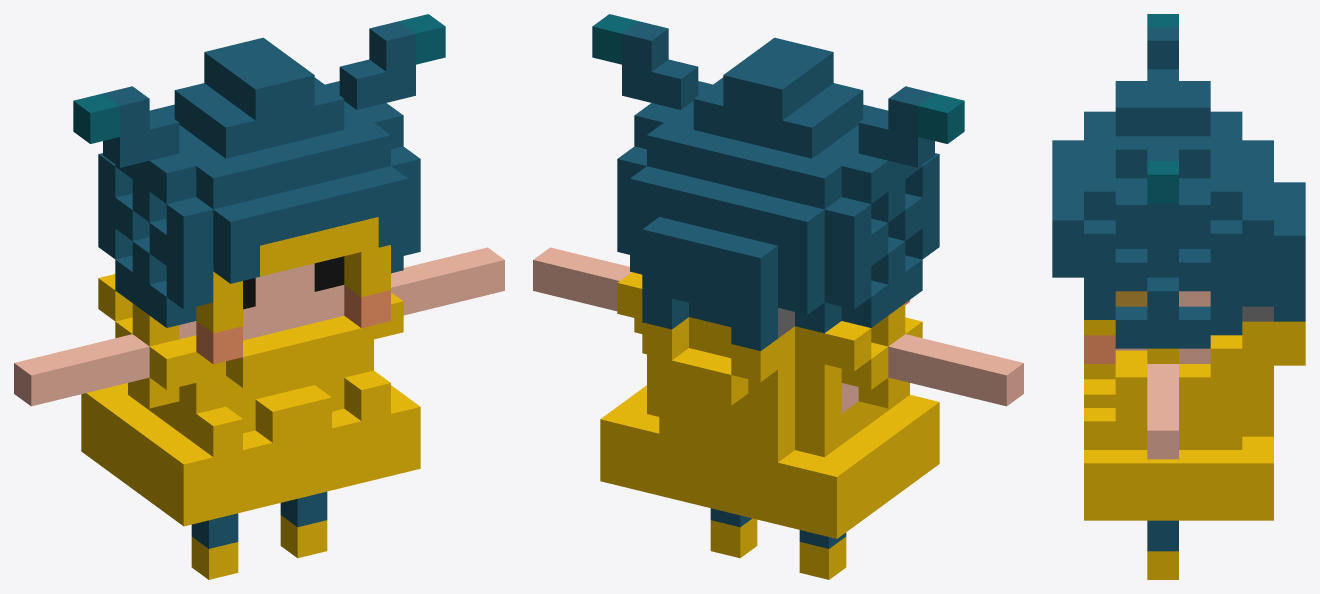
Rendered from character.fbx.
3 views of the same model, side by side, from view 1: azimuth 30°, elevation 25°; view 2: azimuth 150°, elevation 25°; view 3: azimuth 270°, elevation 25° (orthographic). The views are drawn at different scales.
Bounding box in the file's own units: 1.6 × 1.6 × 0.8.
1 material, 1 textured.
